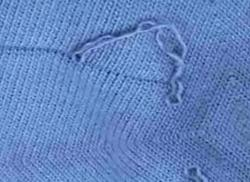snag: (66, 40, 103, 67)
